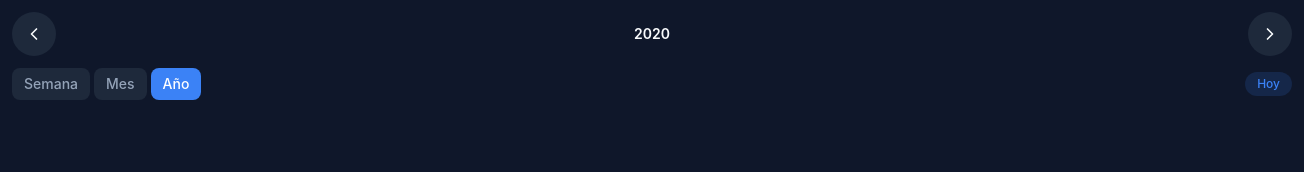
Scenario: PeriodoNavegacion.svelte › coherencia entre vistas (AC-22, AC-23) › Año → Mes: usa punto medio cuando no es futuro (AC-23)
// Cambiar a Mes
Step 1. Click the button "Mes" → (120, 84), box top-left (94, 68), bottom-right (146, 100)
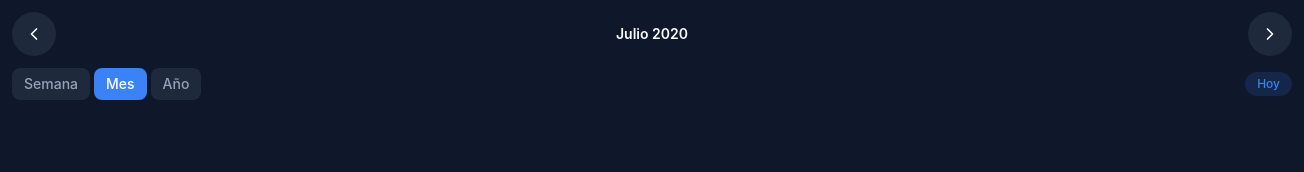
expect the button "Julio 2020" is shown: met, box top-left (60, 16), bottom-right (1244, 52)
